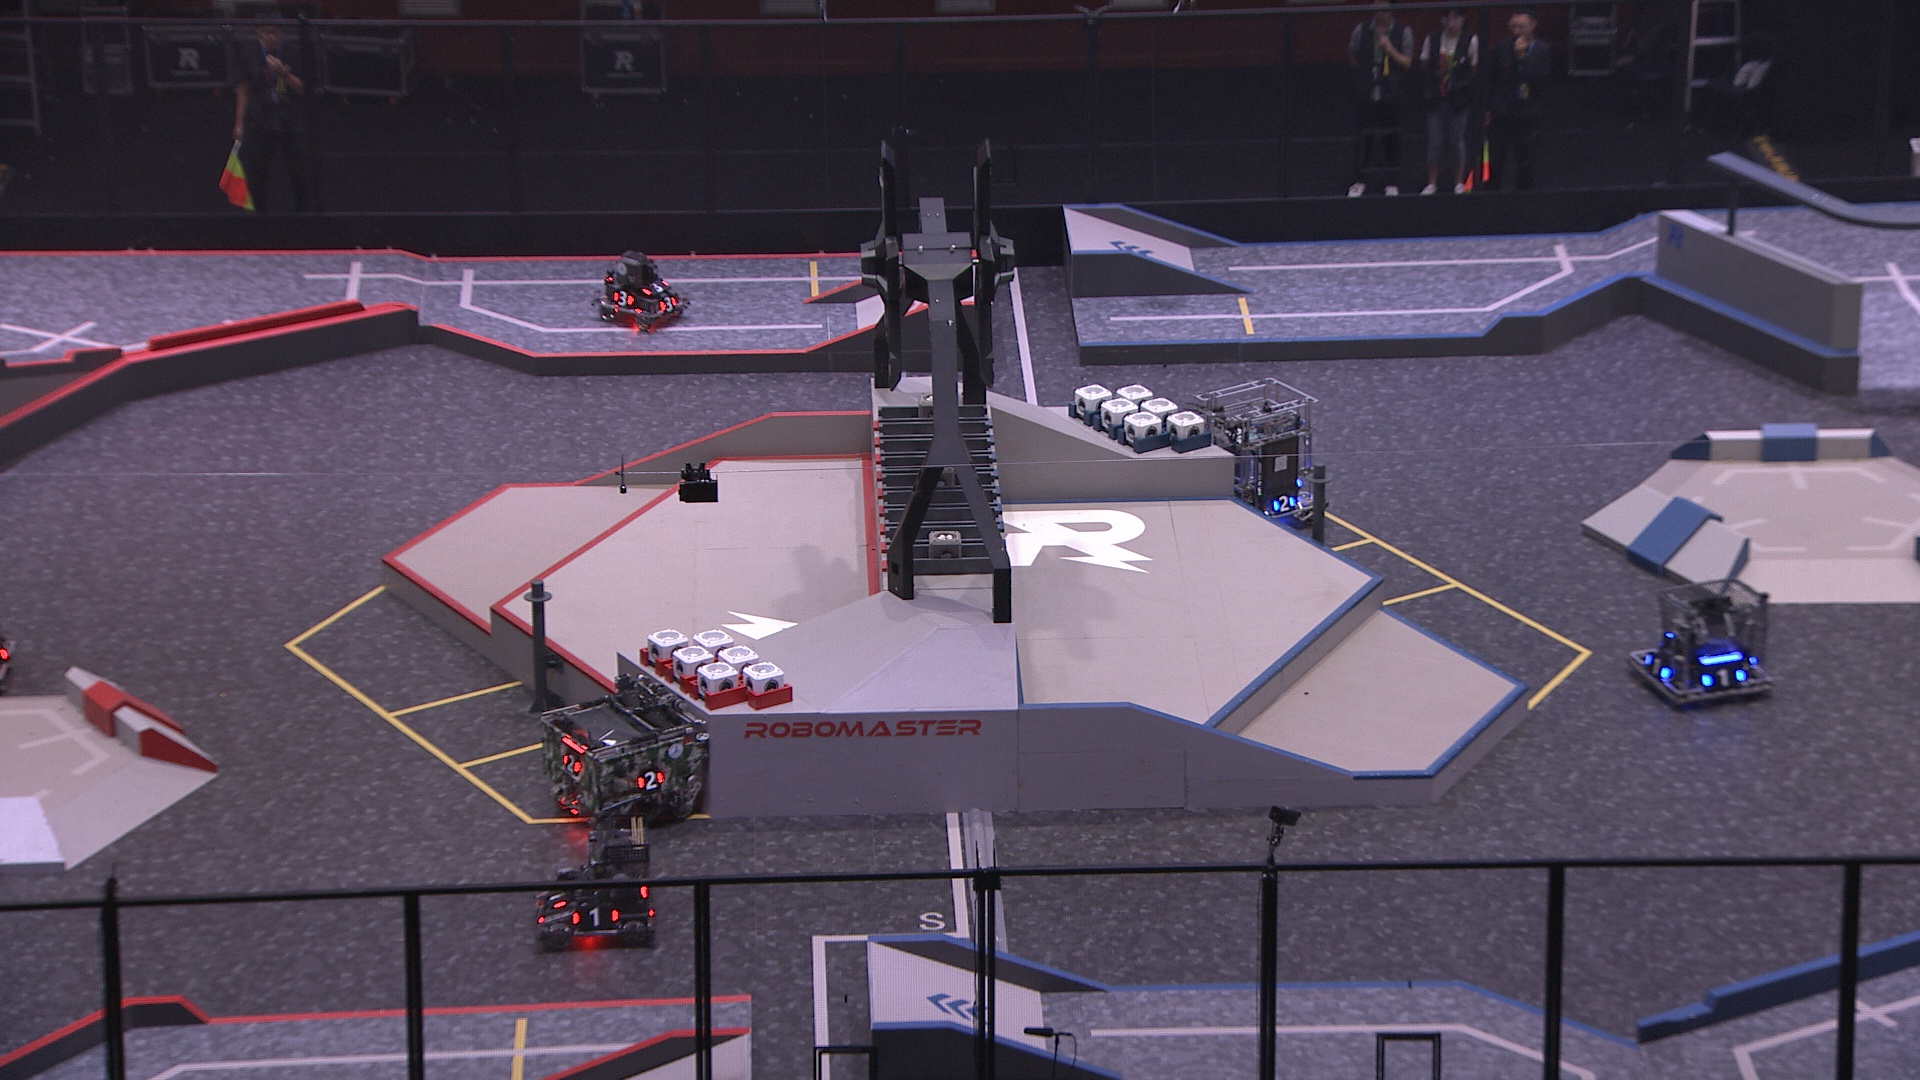armor: (564, 903, 622, 932), (1700, 665, 1749, 692), (632, 769, 667, 796), (1642, 651, 1673, 680), (545, 884, 574, 913), (556, 752, 583, 777), (608, 287, 636, 311), (1273, 491, 1298, 516), (638, 276, 670, 295), (655, 291, 679, 314)
car: (535, 670, 707, 832), (1185, 375, 1328, 533), (1626, 572, 1774, 711), (526, 806, 659, 953), (589, 243, 692, 335)
